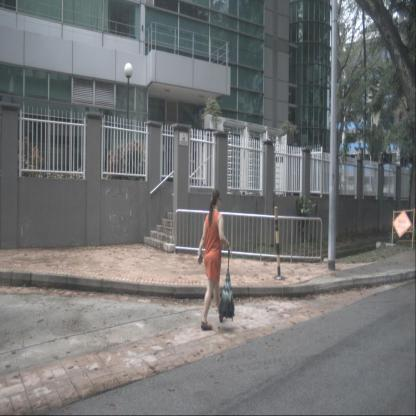barrier: (391, 207, 416, 250)
